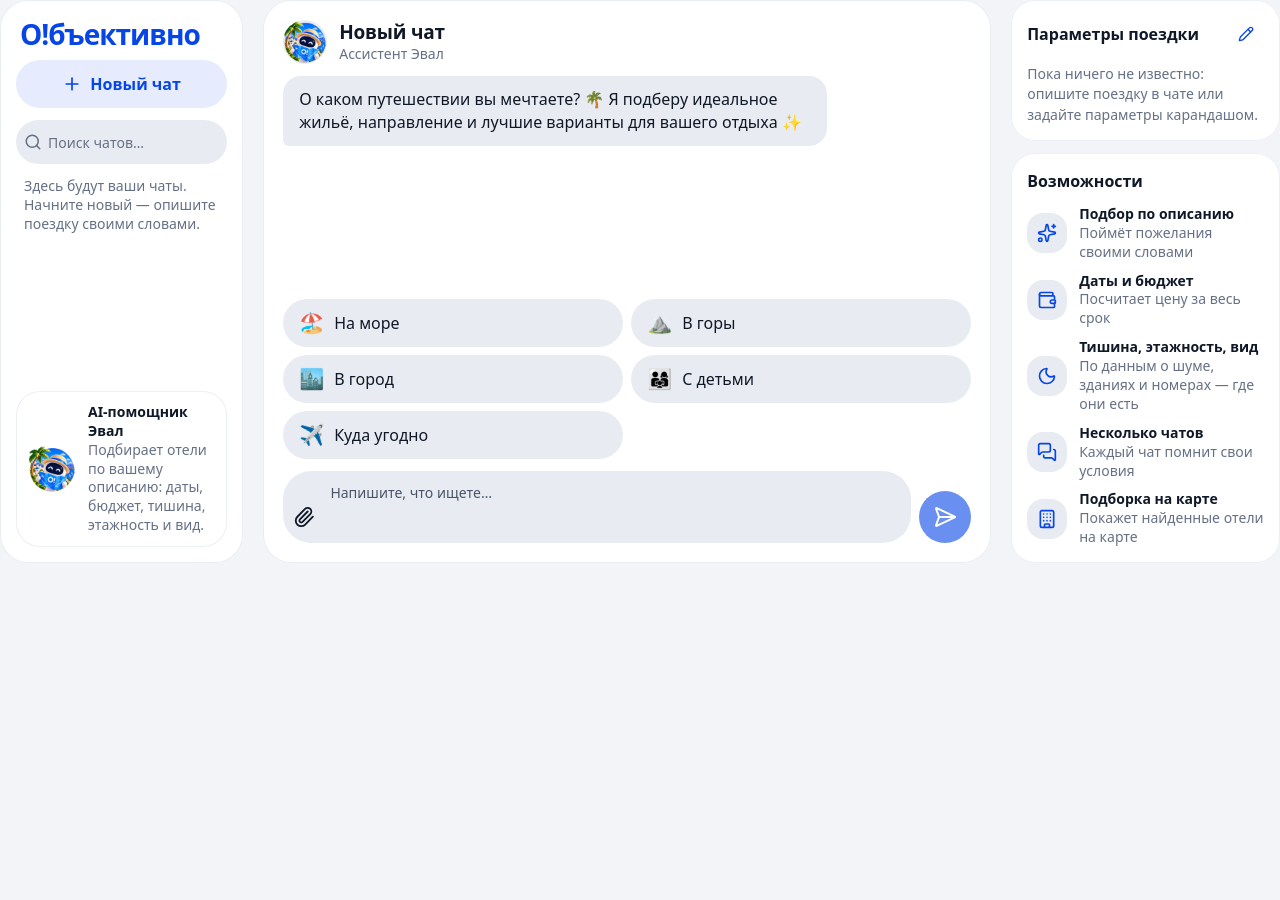
it: AssistantSearch with the model › leads with the model remark when nothing is understood yet
Type "привет" into the text box named "Опишите поездку".
click(613, 507); type("привет")  # box [330,475,895,539]
Then press Enter
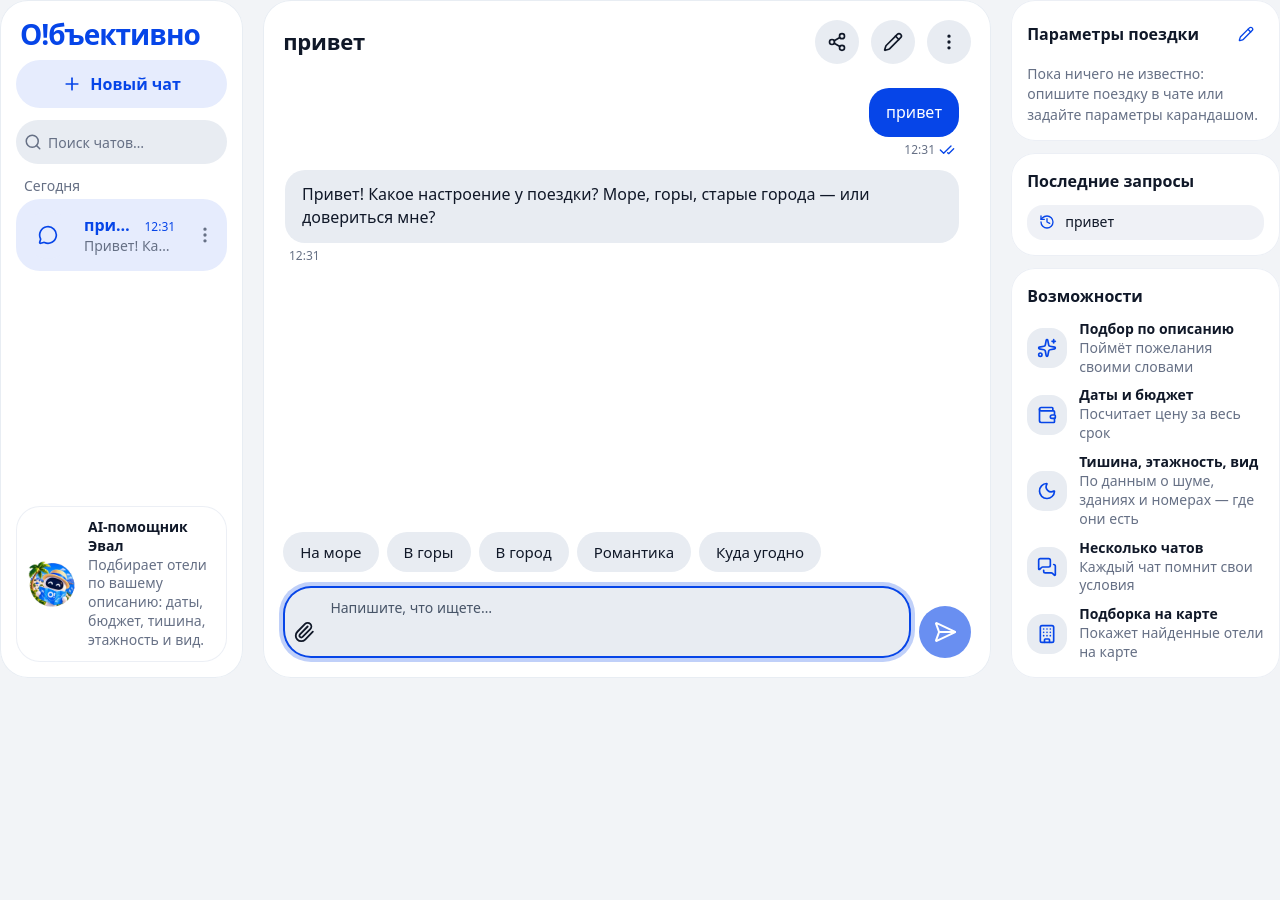
Result: the 1st text "Привет! Какое настроение у поездки?" is shown at [302,183,874,228]
